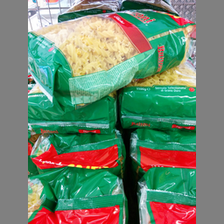pasta: (28, 6, 195, 111)
